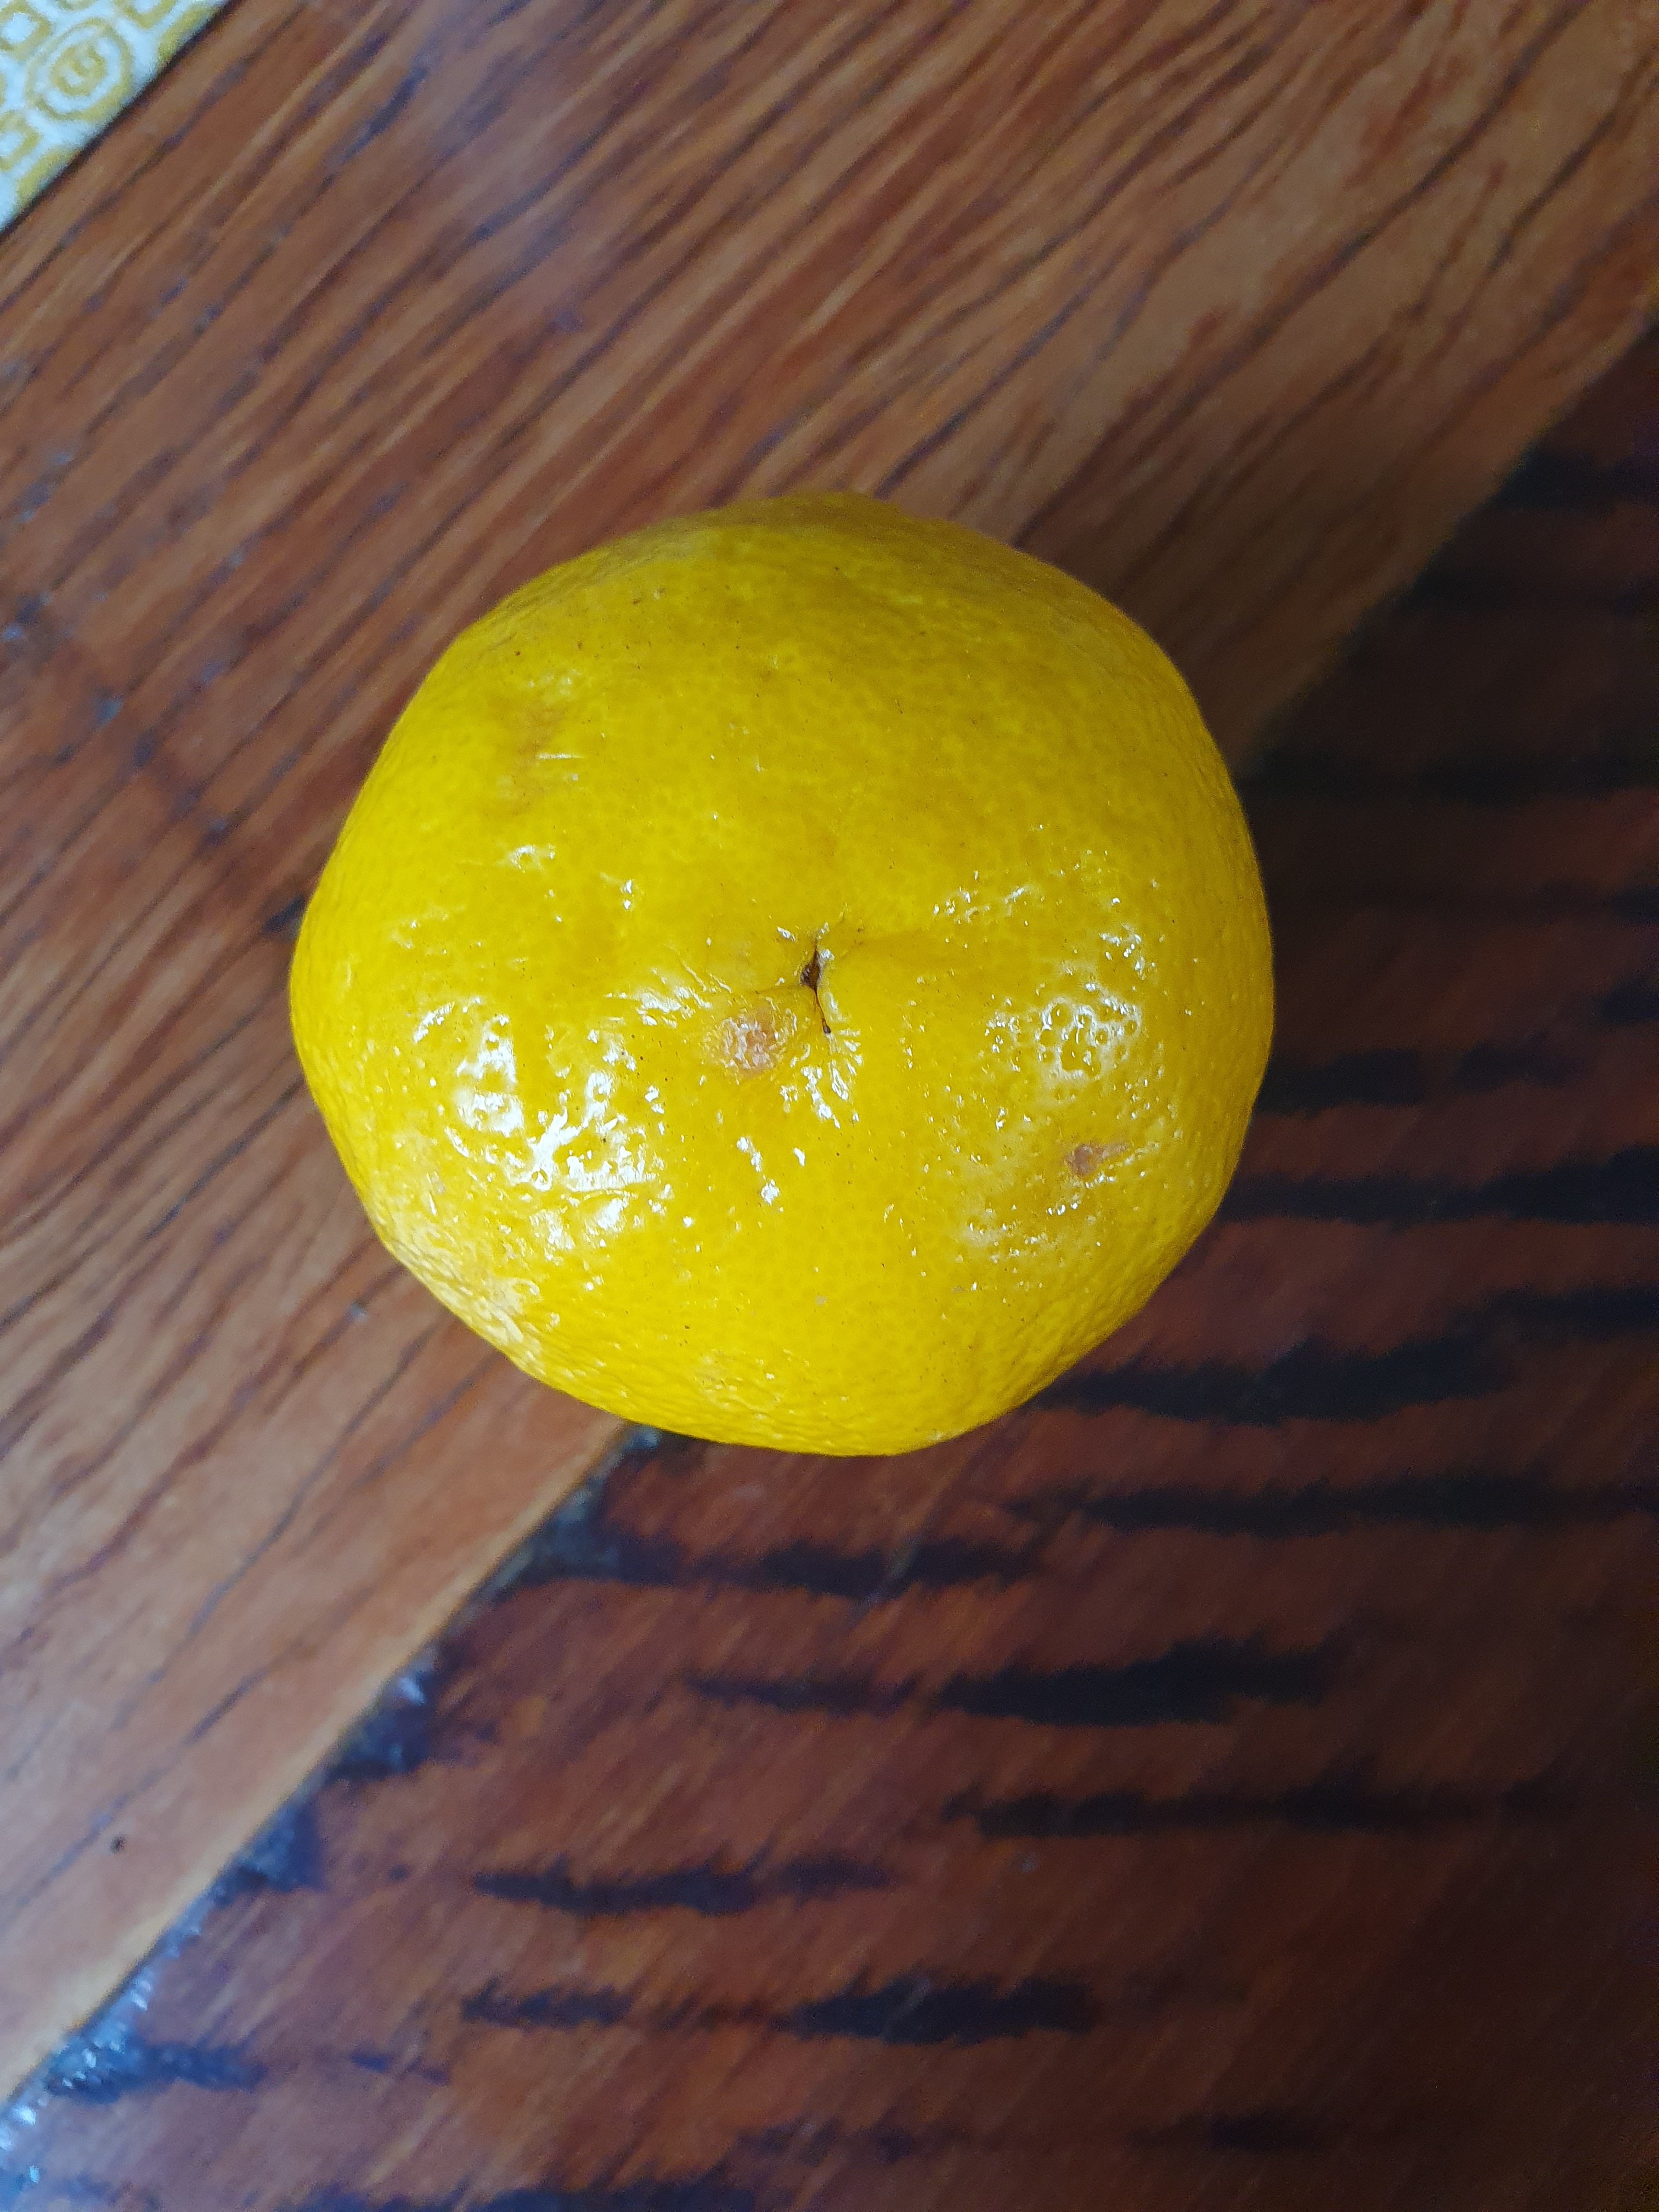lemon: (261, 474, 1298, 1456)
